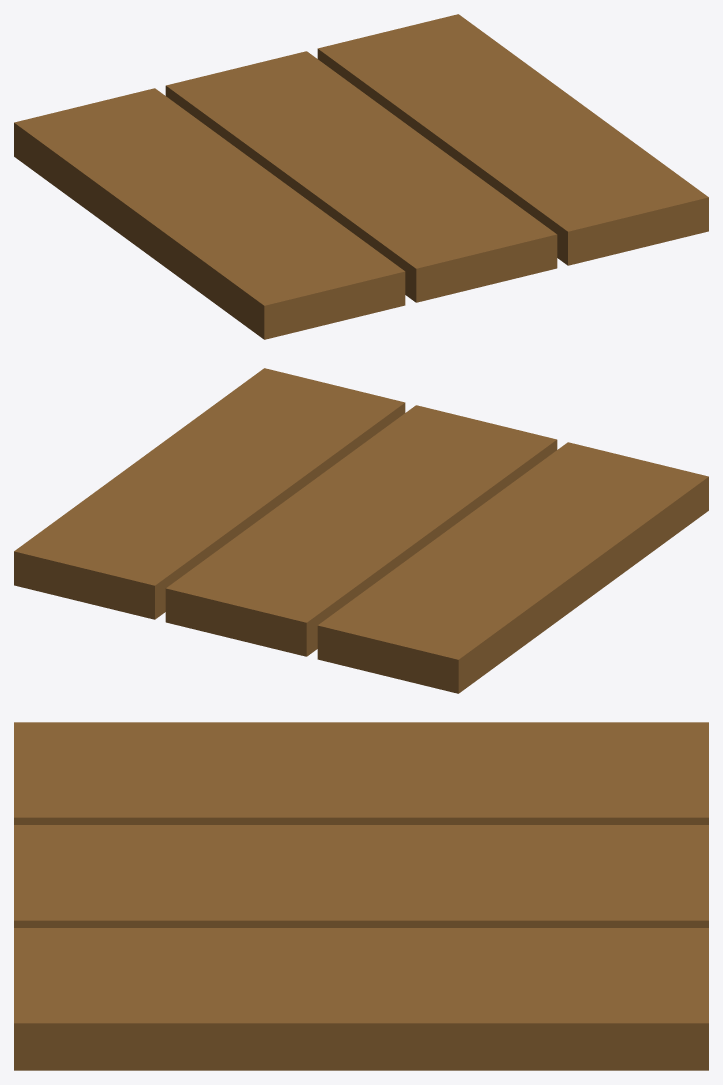
The model's file is wood_deck_01_flat.glb.
3 renders of one model, top to bottom at view 1: azimuth 30°, elevation 25°; view 2: azimuth 150°, elevation 25°; view 3: azimuth 270°, elevation 25°, orthographic. The views are drawn at different scales.
Visible parts, largest first — view 1: rural_fence_01_plank.006; view 2: rural_fence_01_plank.006; view 3: rural_fence_01_plank.006.
Boxes of the visible parts, <box> form: rural_fence_01_plank.006: <box>14,14,708,339</box>; rural_fence_01_plank.006: <box>14,368,708,693</box>; rural_fence_01_plank.006: <box>14,722,708,1070</box>.
Size of the model in its own units: 2.05 by 0.15 by 2.
